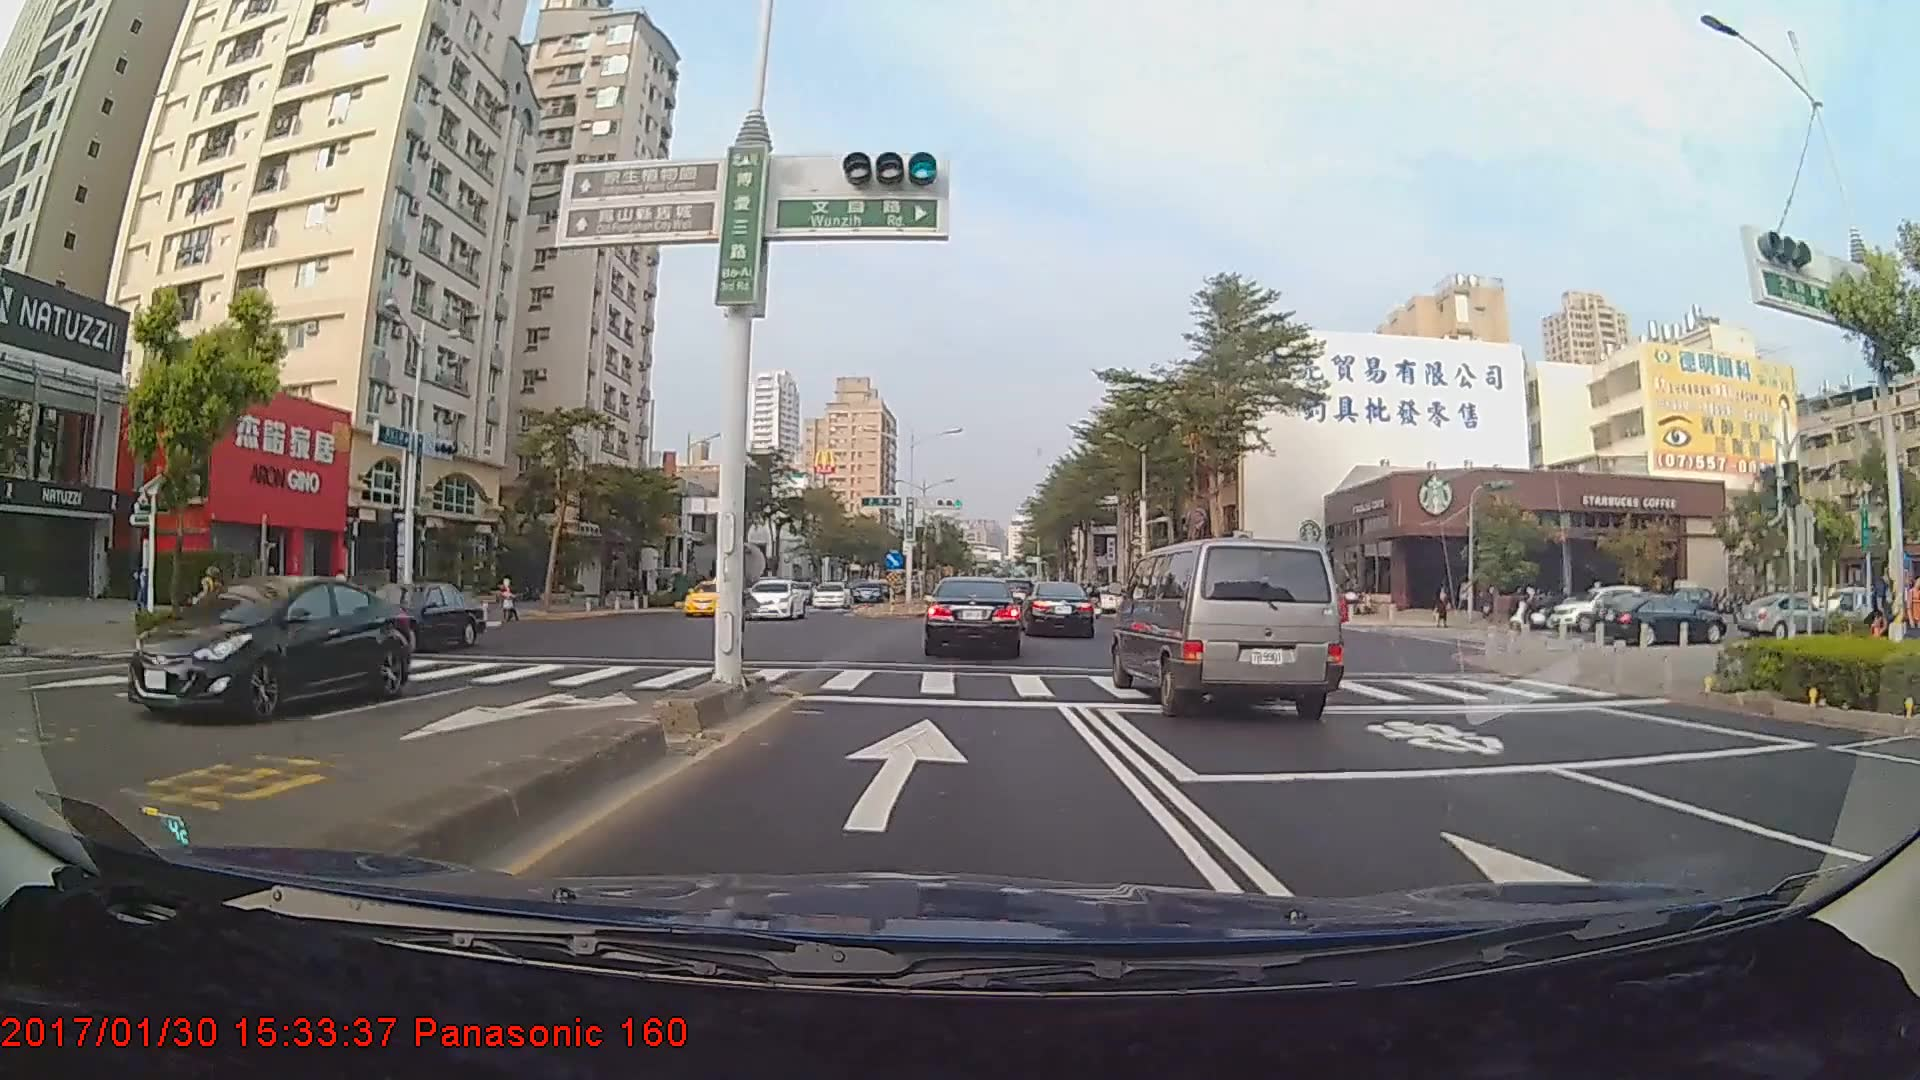pedestrian: (1868, 565, 1900, 654)
rider: (175, 574, 237, 650), (1510, 584, 1556, 633)
vehicle: (1110, 534, 1345, 720), (122, 571, 408, 718), (335, 579, 484, 653), (1611, 583, 1740, 647), (923, 577, 1021, 657), (1736, 592, 1835, 640), (1021, 580, 1095, 639), (744, 576, 803, 621), (681, 578, 743, 619), (807, 581, 848, 610)
